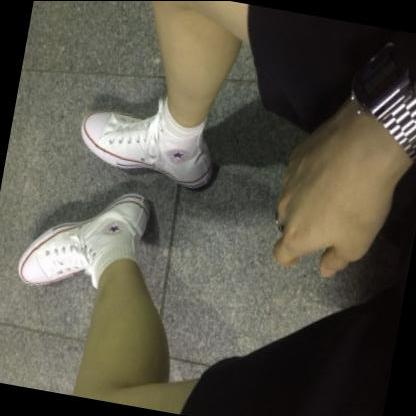no_safety-shoe: (11, 168, 175, 303), (53, 89, 242, 198)
